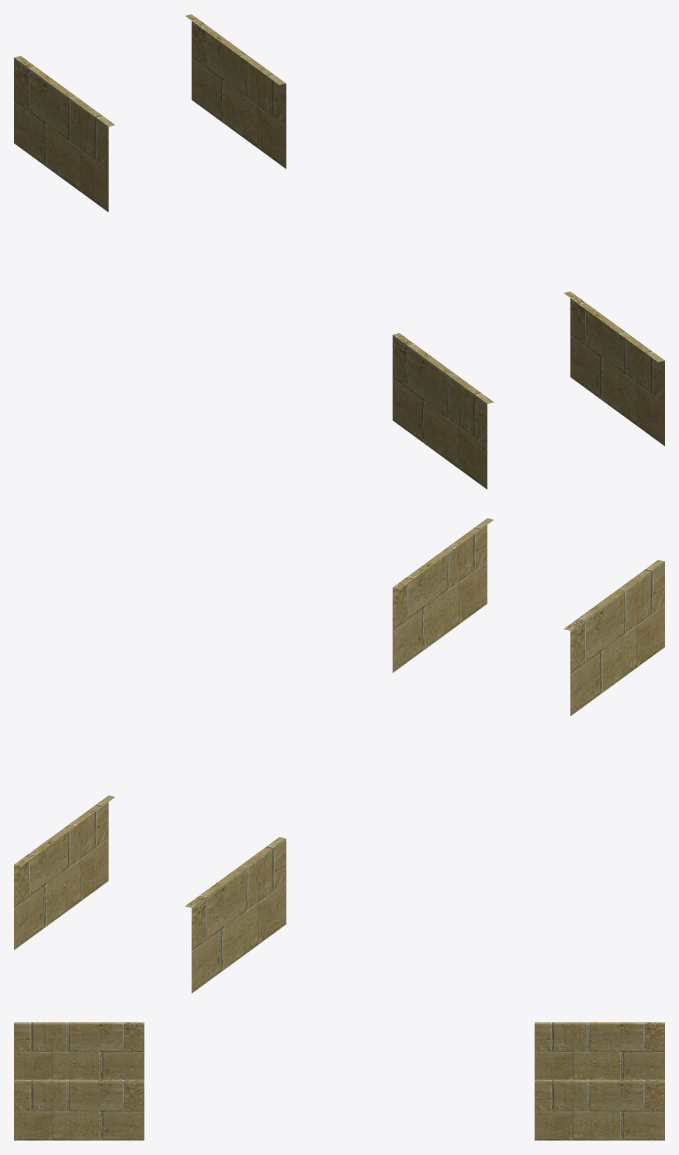
File: zdDoorFrameCurb10x2.fbx
3 views of the same model, one above another, from view 1: azimuth 30°, elevation 25°; view 2: azimuth 150°, elevation 25°; view 3: azimuth 270°, elevation 25° (orthographic). The views are drawn at different scales.
Parts seen in each view (by area): view 1: SketchUp.001, SketchUp.003, SketchUp.002, SketchUp; view 2: SketchUp.003, SketchUp.001, SketchUp, SketchUp.002; view 3: SketchUp.002, SketchUp, SketchUp.003, SketchUp.001.
Boxes of the visible parts, x1,y1,x2,y2 form: SketchUp.001: (392, 333, 493, 489); SketchUp.003: (14, 56, 114, 212); SketchUp.002: (185, 14, 286, 168); SketchUp: (564, 291, 664, 445); SketchUp.003: (185, 837, 286, 993); SketchUp.001: (564, 560, 664, 716); SketchUp: (392, 518, 493, 672); SketchUp.002: (14, 795, 114, 949); SketchUp.002: (534, 1079, 664, 1140); SketchUp: (14, 1079, 144, 1140); SketchUp.003: (534, 1022, 664, 1079); SketchUp.001: (14, 1022, 144, 1079).
Size of the model in its own units: 0.6604 by 0.3048 by 3.05.
